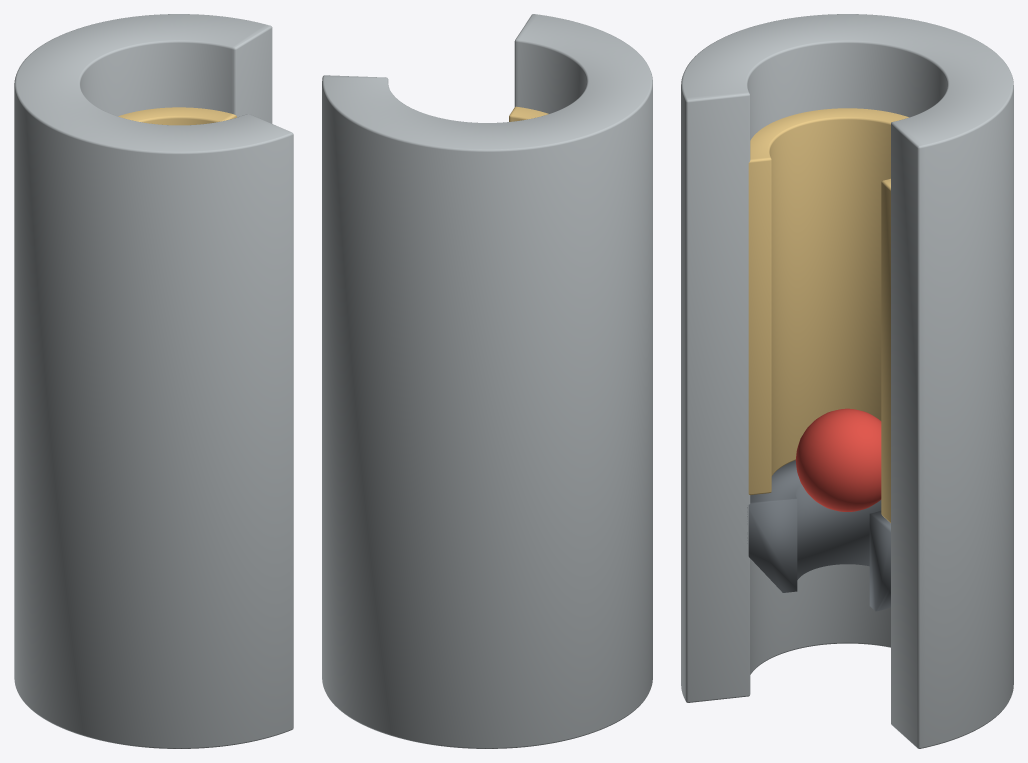
Rendered from frac-sleeve.glb.
3 renders of one model, left to right at view 1: azimuth 30°, elevation 25°; view 2: azimuth 150°, elevation 25°; view 3: azimuth 270°, elevation 25°, orthographic.
Visible parts, largest first — view 1: Frac sleeve, Inner shifting sleeve; view 2: Frac sleeve; view 3: Frac sleeve, Inner shifting sleeve, Ball seat, Frac ball.
Part boxes in pixels (left/top/right/bottom): Frac sleeve: left=14, top=14, right=293, bottom=748; Inner shifting sleeve: left=118, top=107, right=236, bottom=125; Frac sleeve: left=322, top=14, right=652, bottom=748; Frac sleeve: left=681, top=14, right=1013, bottom=748; Inner shifting sleeve: left=748, top=108, right=908, bottom=522; Ball seat: left=747, top=460, right=890, bottom=611; Frac ball: left=795, top=408, right=881, bottom=511.
Bounding box in the file's own units: 1.71 × 3.6 × 1.8.
